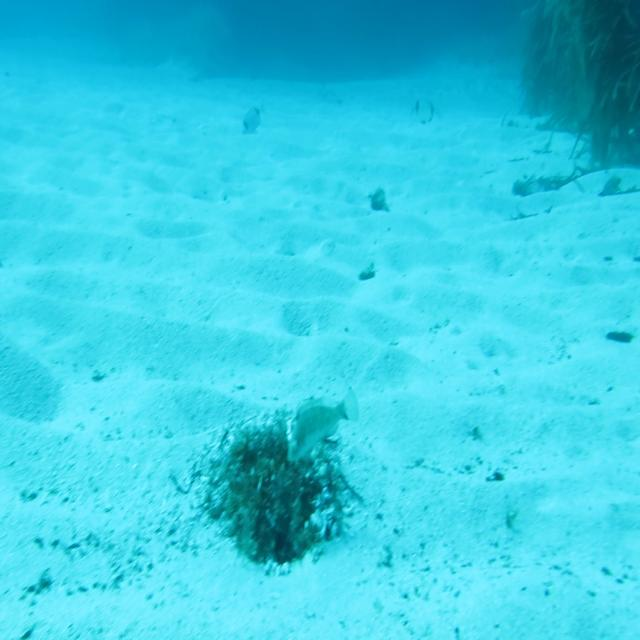BN: (284, 390, 360, 465)
core_nest: (251, 451, 296, 484)
nest: (188, 405, 360, 583)
other_fish: (407, 93, 440, 126), (239, 100, 264, 138)
vegetation: (511, 0, 640, 206), (367, 183, 392, 218), (606, 325, 634, 347)
